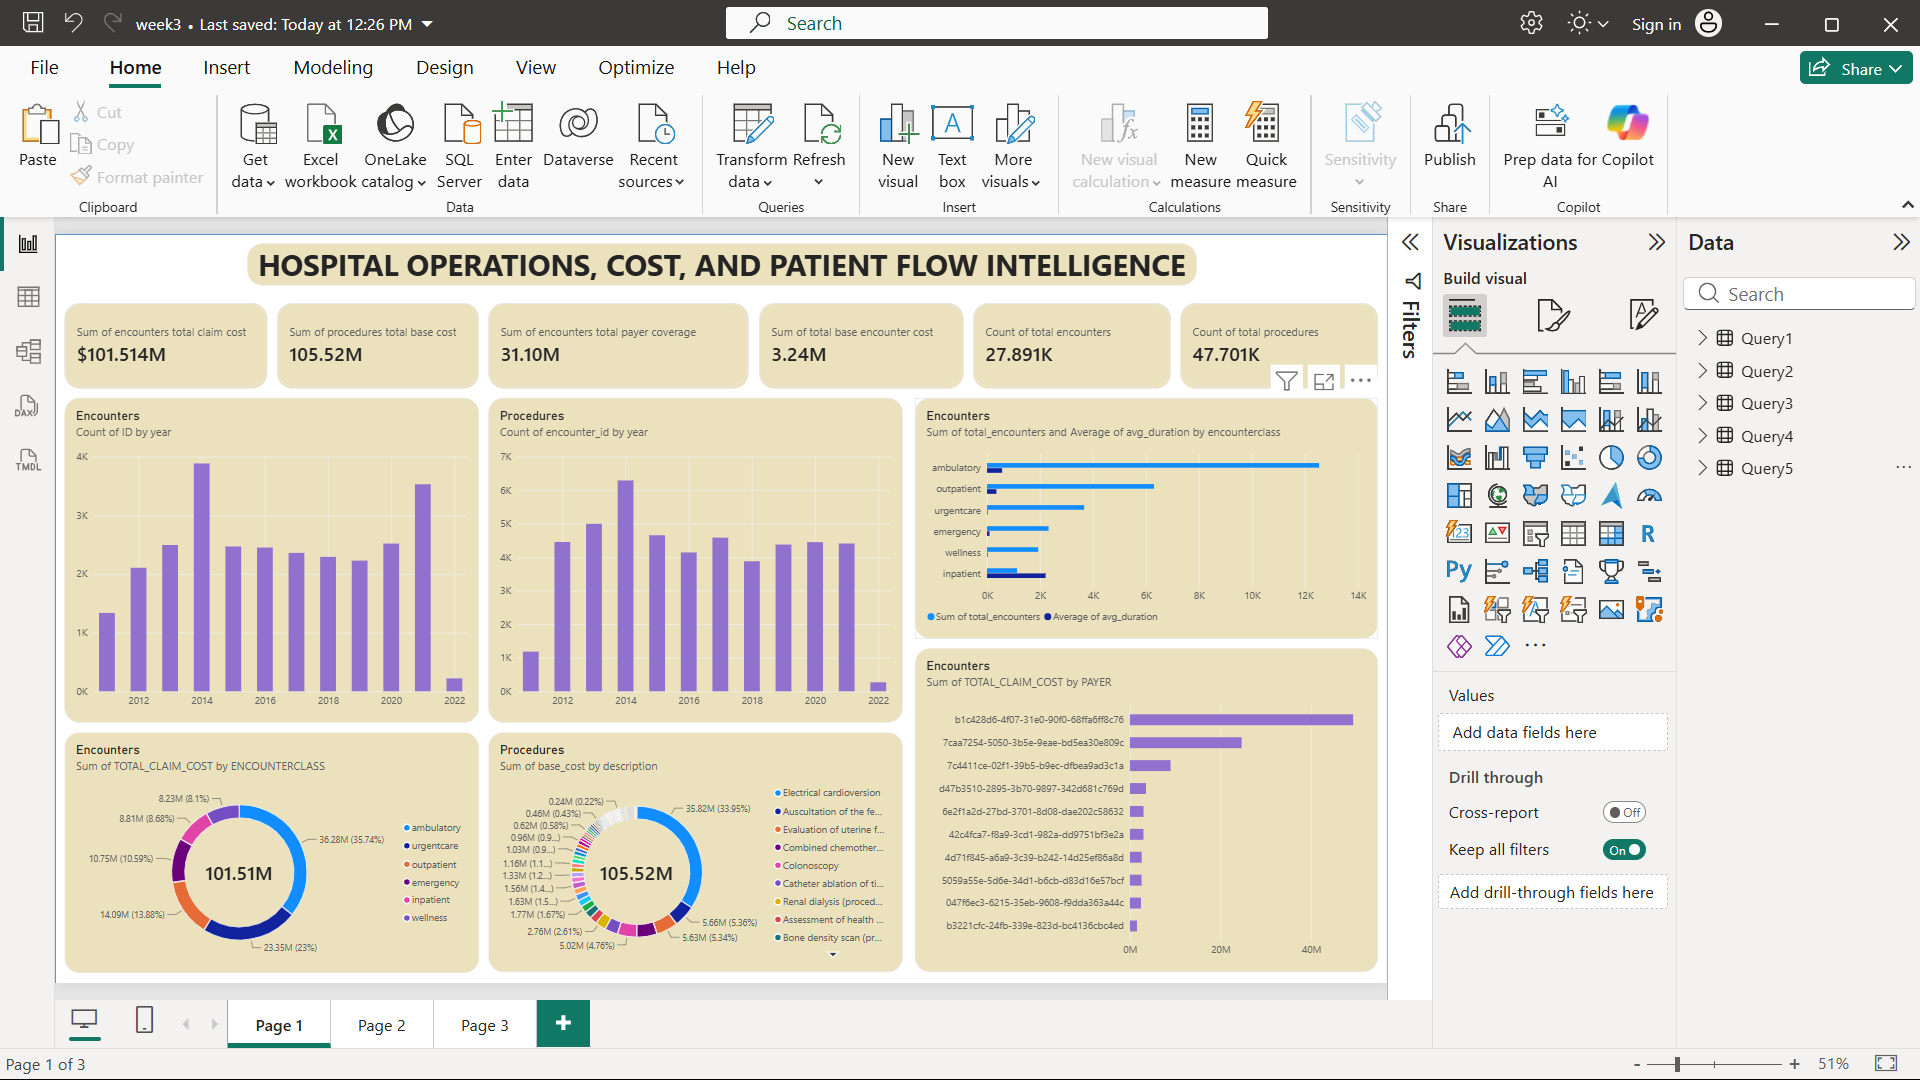

What the dashboard file says about the page in this screenshot:
{"tool":"powerbi","page":{"name":"Page 1","canvas":[1920,1080],"ordinal":0},"visuals":[{"type":"shape","box":[0,0,1920.9,1080.8],"z":0},{"type":"cardVisual","fields":{"Data":["Sum(Query1.TOTAL_CLAIM_COST)"]},"box":[13.7,99.5,292.8,123],"z":1000},{"type":"textbox","box":[277.2,13.7,1368.3,60.5],"z":2000},{"type":"cardVisual","fields":{"Data":["Sum(Query1.PAYER_COVERAGE)"]},"box":[624.6,99.5,374.8,123],"z":3000},{"type":"cardVisual","fields":{"Data":["Sum(Query1.BASE_ENCOUNTER_COST)"]},"box":[1015,99.5,294.7,123],"z":4000},{"type":"cardVisual","fields":{"Data":["Sum(Query2.base_cost)"]},"box":[320.1,99.5,290.8,123],"z":5000},{"type":"cardVisual","fields":{"Data":["CountNonNull(Query1.ID)"]},"box":[1323.4,99.5,285,123],"z":6000},{"type":"cardVisual","fields":{"Data":["CountNonNull(Query2.encounter_id)"]},"box":[1622.1,99.5,285,123],"z":7000},{"type":"clusteredBarChart","title":"Encounters","fields":{"Category":["Query1.PAYER"],"Y":["Sum(Query1.TOTAL_CLAIM_COST)"]},"box":[1239.5,597.3,667.6,466.5],"z":8000},{"type":"lineClusteredColumnComboChart","title":"Encounters","fields":{"Category":["Query1.year"],"Y":["CountNonNull(Query1.ID)"]},"box":[13.7,236.2,597.3,468.5],"z":9000},{"type":"lineClusteredColumnComboChart","title":"Procedures","fields":{"Category":["Query2.year"],"Y":["CountNonNull(Query2.encounter_id)"]},"box":[624.6,236.2,597.3,468.5],"z":10000},{"type":"donutChart","title":"Encounters","fields":{"Category":["Query1.ENCOUNTERCLASS"],"Y":["Sum(Query1.TOTAL_CLAIM_COST)"]},"box":[13.7,718.3,597.3,347.4],"z":11000},{"type":"donutChart","title":"Procedures","fields":{"Category":["Query2.description"],"Y":["Sum(Query2.base_cost)"]},"box":[624.6,718.3,597.3,345.5],"z":12000},{"type":"clusteredBarChart","title":"Encounters","fields":{"Category":["Query3.encounterclass"],"Y":["Sum(Query3.total_encounters)","Avg(Query3.avg_duration)"]},"box":[1239.5,236.2,667.6,347.4],"z":13000}]}

Visuals, with their boxes on the page's 1920x1080 design canvas (x1, y1, x2, y2). These are canvas units, not pixel positions in the 1920x1080 screenshot, which may show the page scaled, cropped or inside an application window:
shape: [x1=0, y1=0, x2=1921, y2=1081]
cardVisual - Sum(Query1.TOTAL_CLAIM_COST): [x1=14, y1=100, x2=306, y2=222]
textbox: [x1=277, y1=14, x2=1646, y2=74]
cardVisual - Sum(Query1.PAYER_COVERAGE): [x1=625, y1=100, x2=999, y2=222]
cardVisual - Sum(Query1.BASE_ENCOUNTER_COST): [x1=1015, y1=100, x2=1310, y2=222]
cardVisual - Sum(Query2.base_cost): [x1=320, y1=100, x2=611, y2=222]
cardVisual - CountNonNull(Query1.ID): [x1=1323, y1=100, x2=1608, y2=222]
cardVisual - CountNonNull(Query2.encounter_id): [x1=1622, y1=100, x2=1907, y2=222]
"Encounters" clusteredBarChart: [x1=1240, y1=597, x2=1907, y2=1064]
"Encounters" lineClusteredColumnComboChart: [x1=14, y1=236, x2=611, y2=705]
"Procedures" lineClusteredColumnComboChart: [x1=625, y1=236, x2=1222, y2=705]
"Encounters" donutChart: [x1=14, y1=718, x2=611, y2=1066]
"Procedures" donutChart: [x1=625, y1=718, x2=1222, y2=1064]
"Encounters" clusteredBarChart: [x1=1240, y1=236, x2=1907, y2=584]
